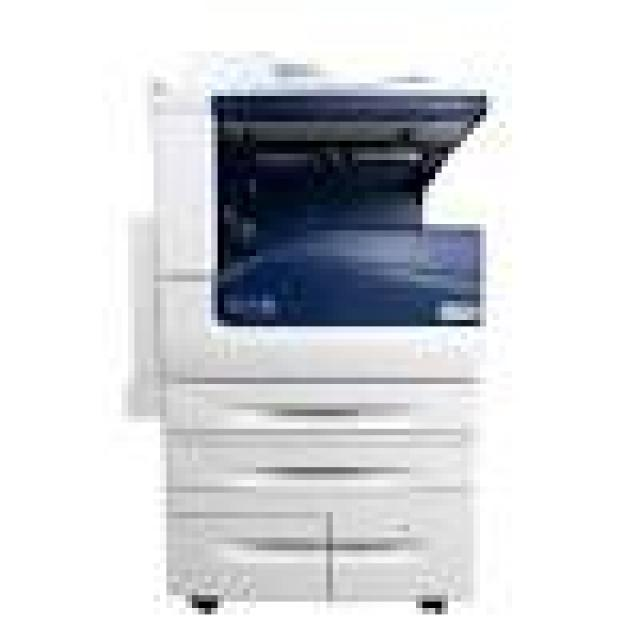printer: (106, 35, 544, 640)
